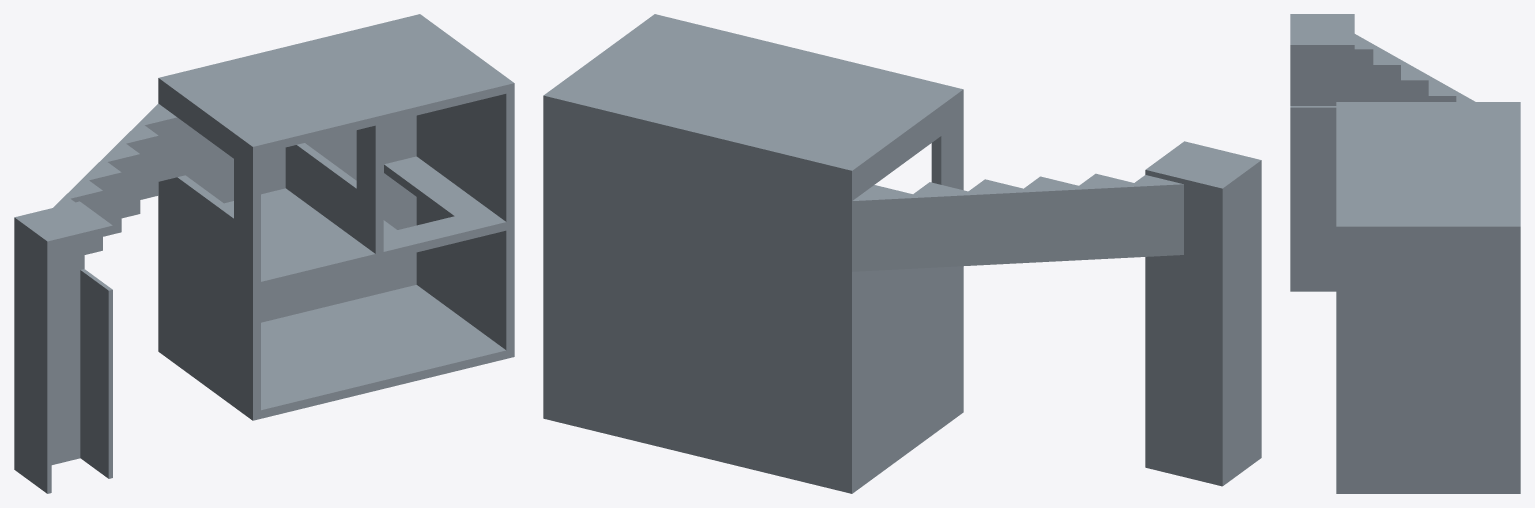
The model's file is Part Studio 1 - Part 1 (2).dae.
3 views of the same model, side by side, from view 1: azimuth 30°, elevation 25°; view 2: azimuth 150°, elevation 25°; view 3: azimuth 270°, elevation 25° (orthographic). The views are drawn at different scales.
Bounding box in the file's own units: 6 × 3.2 × 2.5.
